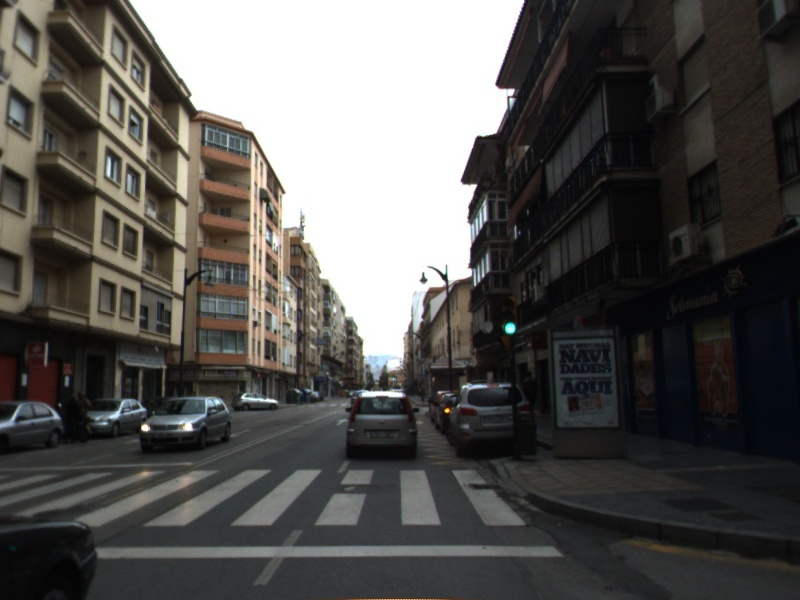STRAIGHT: (335, 417, 350, 427)
